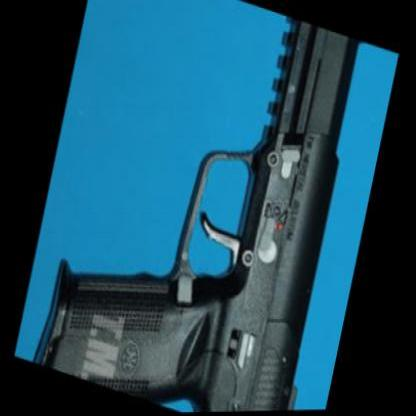pistol: (25, 0, 382, 413)
